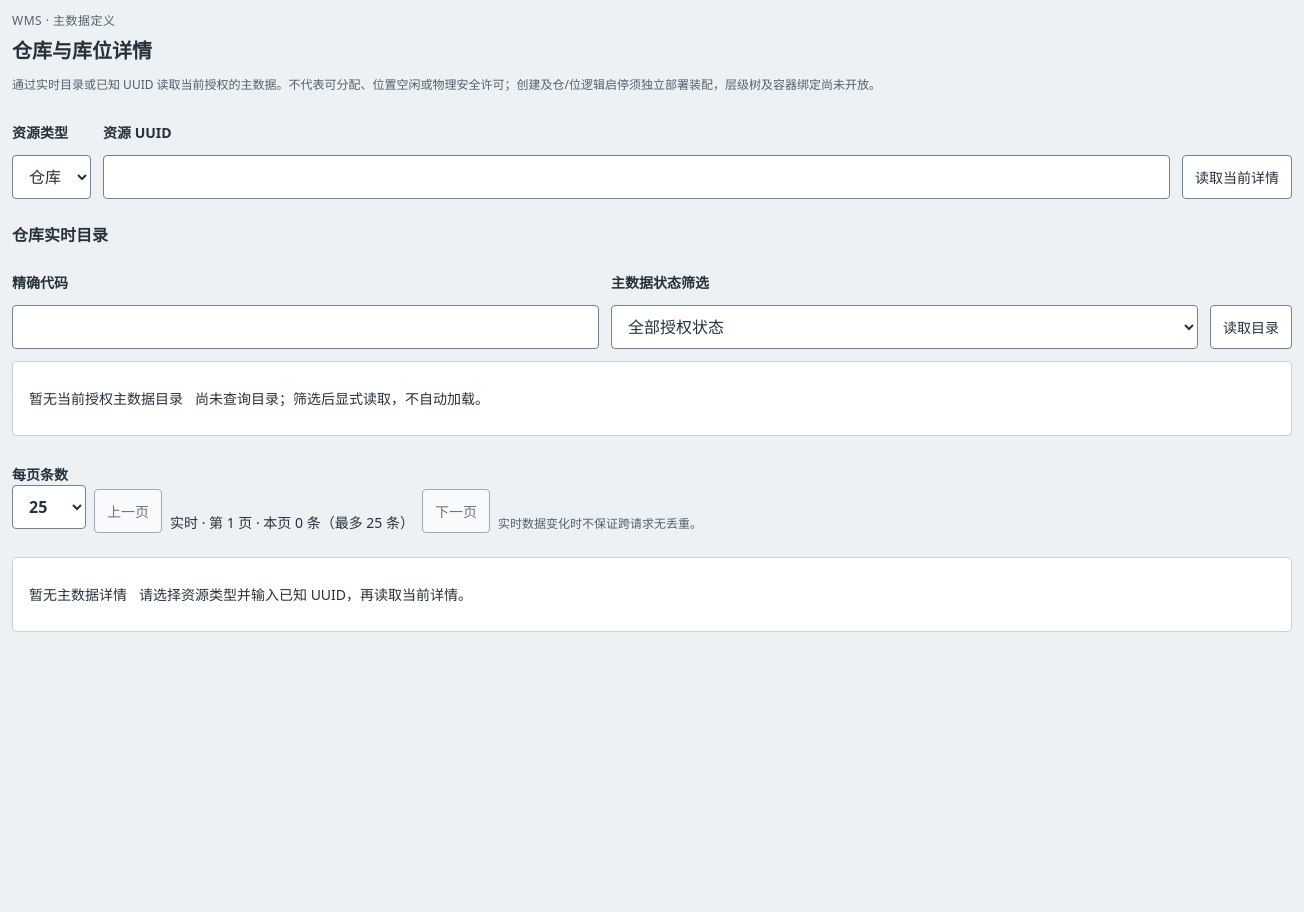
Test: rejects invalid UUID bad without sending it
In the field named "resourceId": (636, 177) [103,155,1170,199], type "bad"
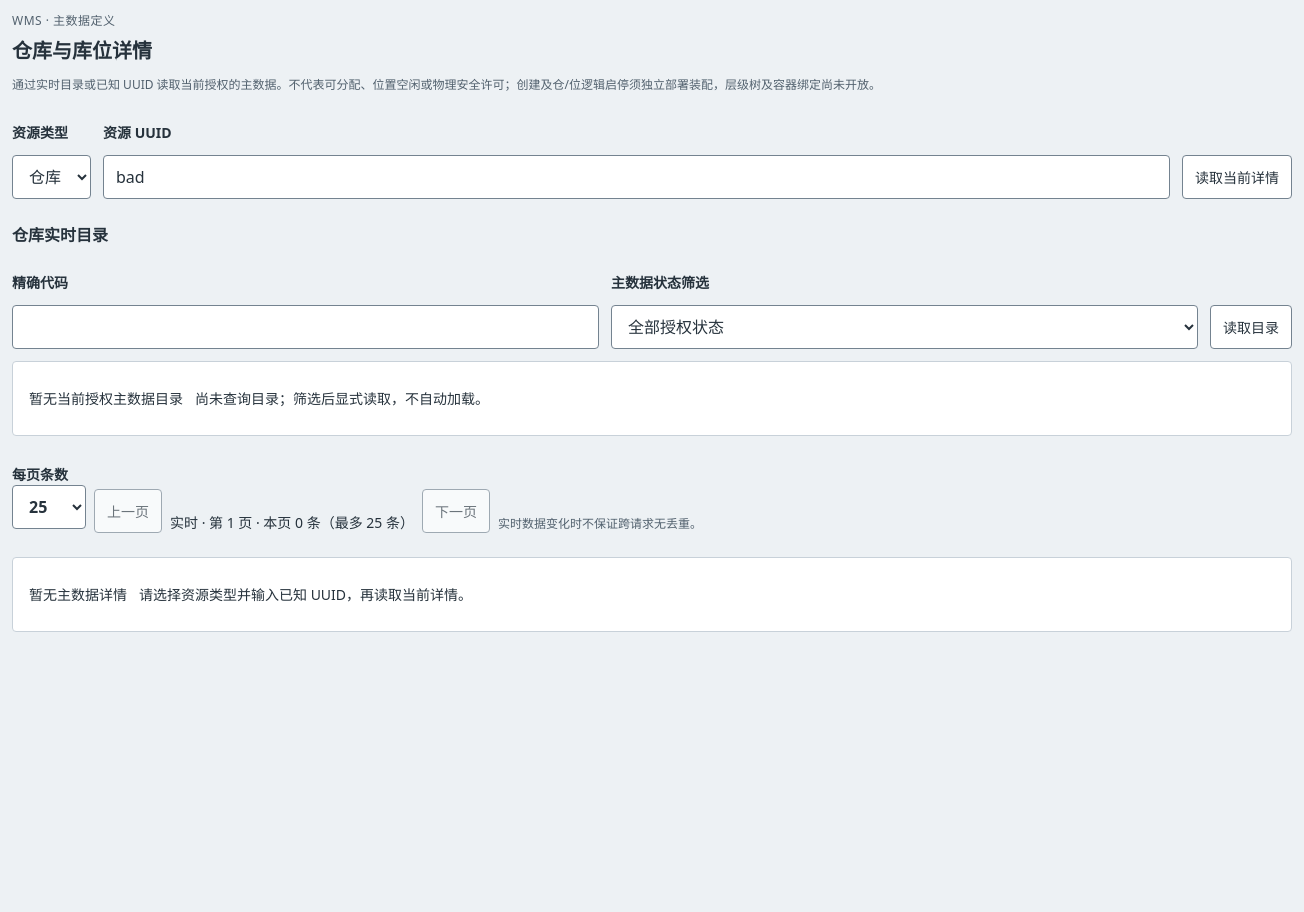
Submit the form "资源类型 资源 UUID 读取当前详情", box [12,110,1292,199]
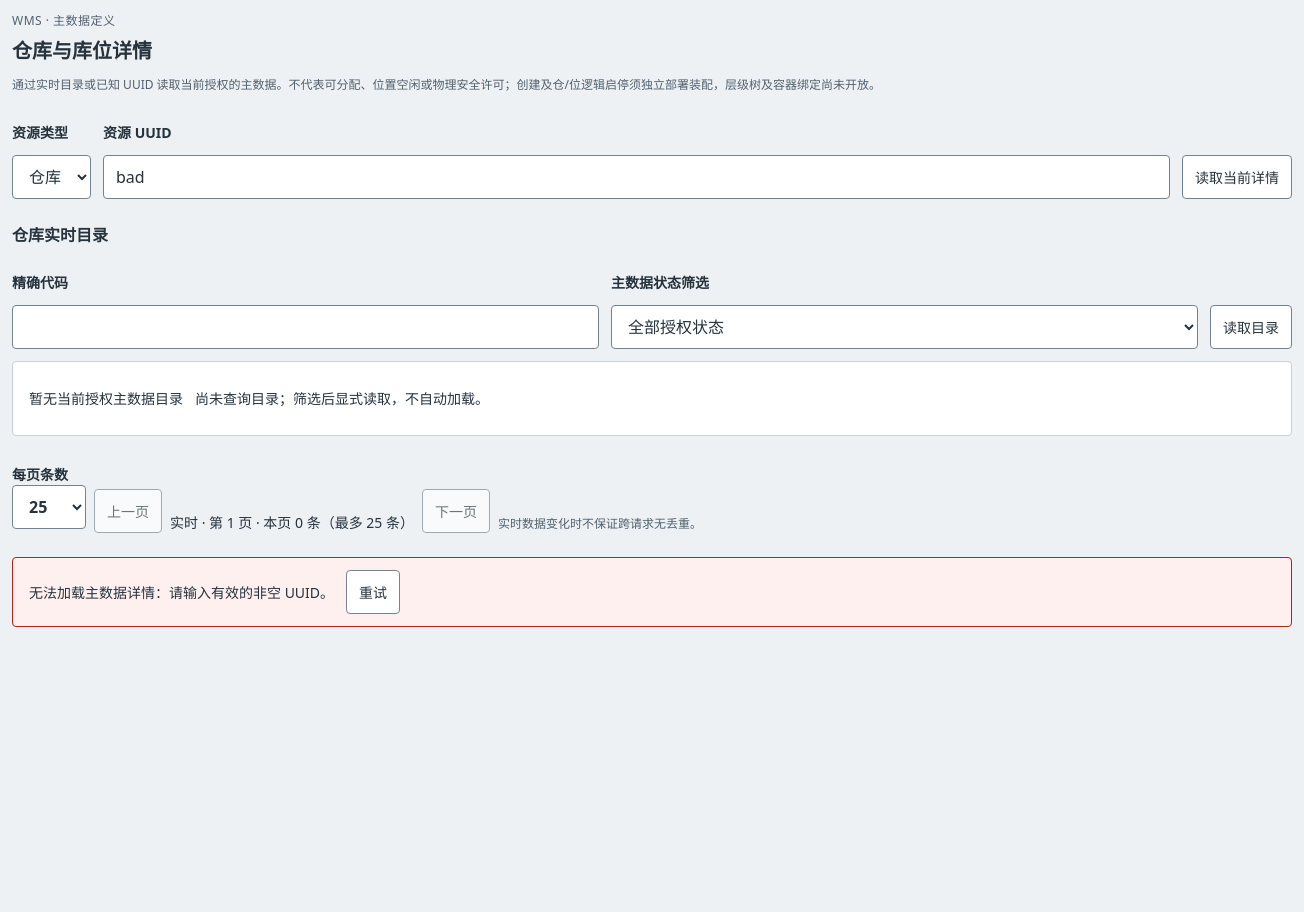
Expected: the text "有效的非空 UUID" is shown, [29,583,334,602]
